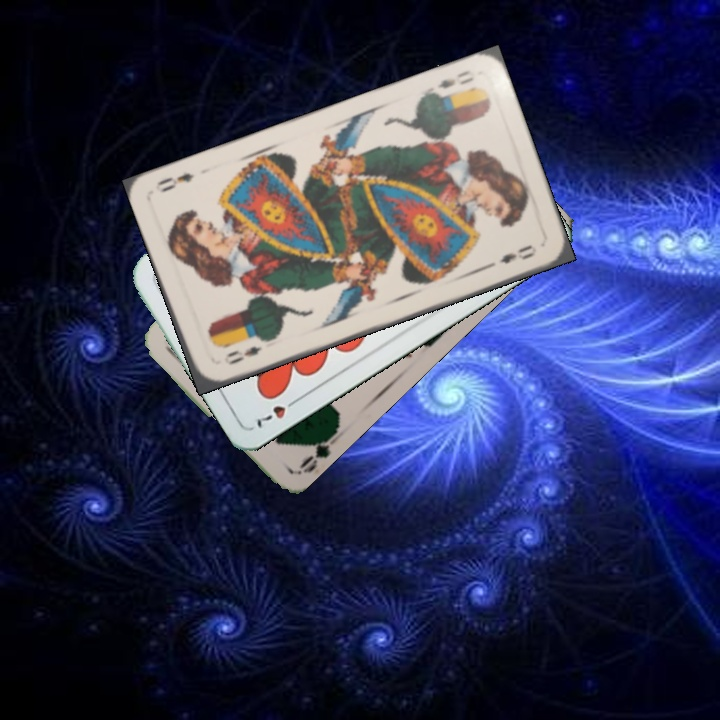EO: (220, 342, 265, 368), (434, 66, 477, 92)
GO: (295, 429, 343, 476)
H7: (251, 393, 303, 430)
